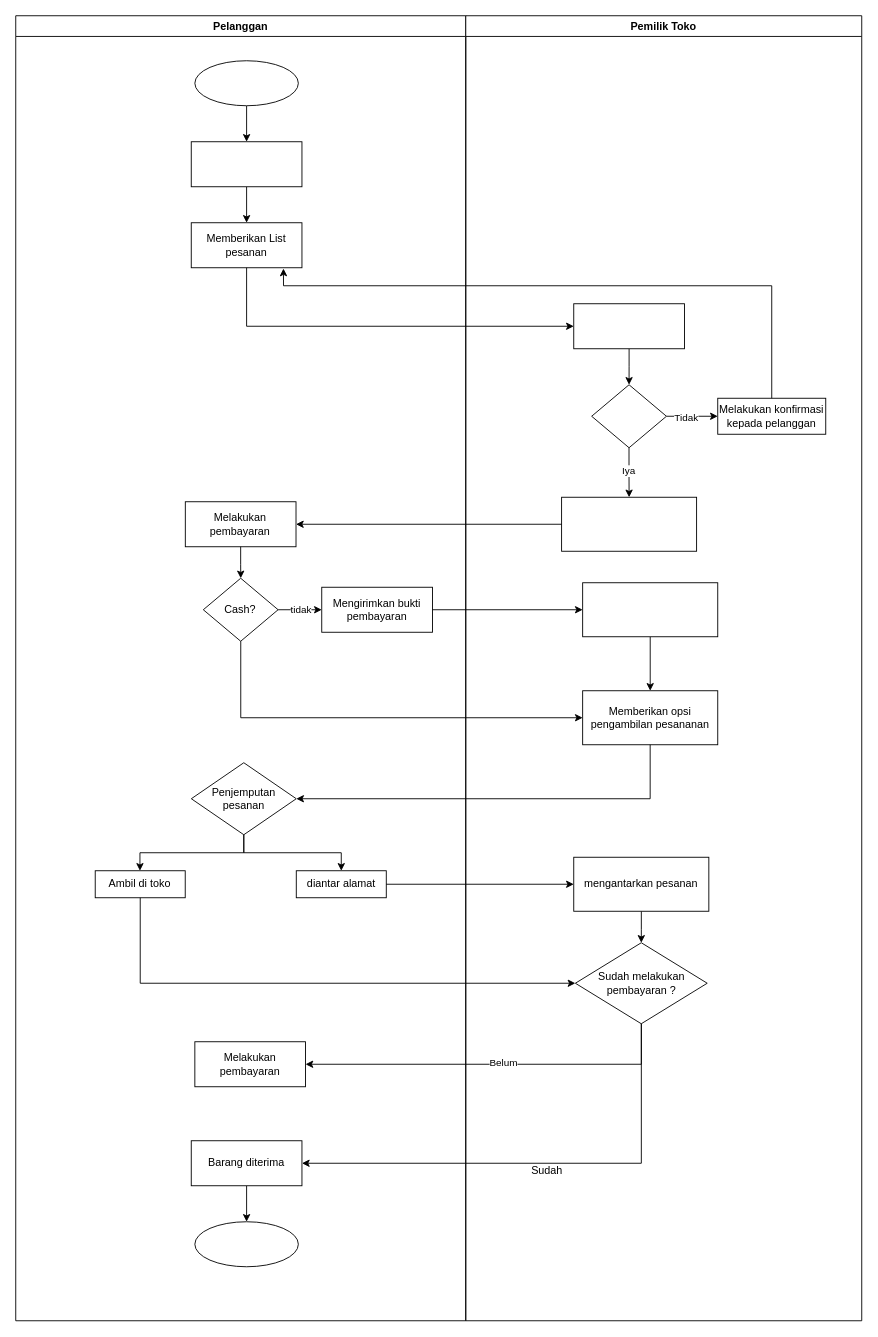
The diagram is 878 pixels wide and 1337 high, and some of its shapes have lost their labels. Here are the shapes that lost their labels. From the top down, the centre of each, then its label:
At (246,83): "Start".
At (246,164): "Memesan melalui whatsapp".
At (628,326): "Melakukan cek stok barang secara manual".
At (628,416): "Stok Tersedia?".
At (629,523): "Pesananan di catat dalam nota dan dikirimkan ke whatsapp".
At (650,609): "Memberikan konfirmasi pembayaran berhasil".
At (246,1244): "End".
